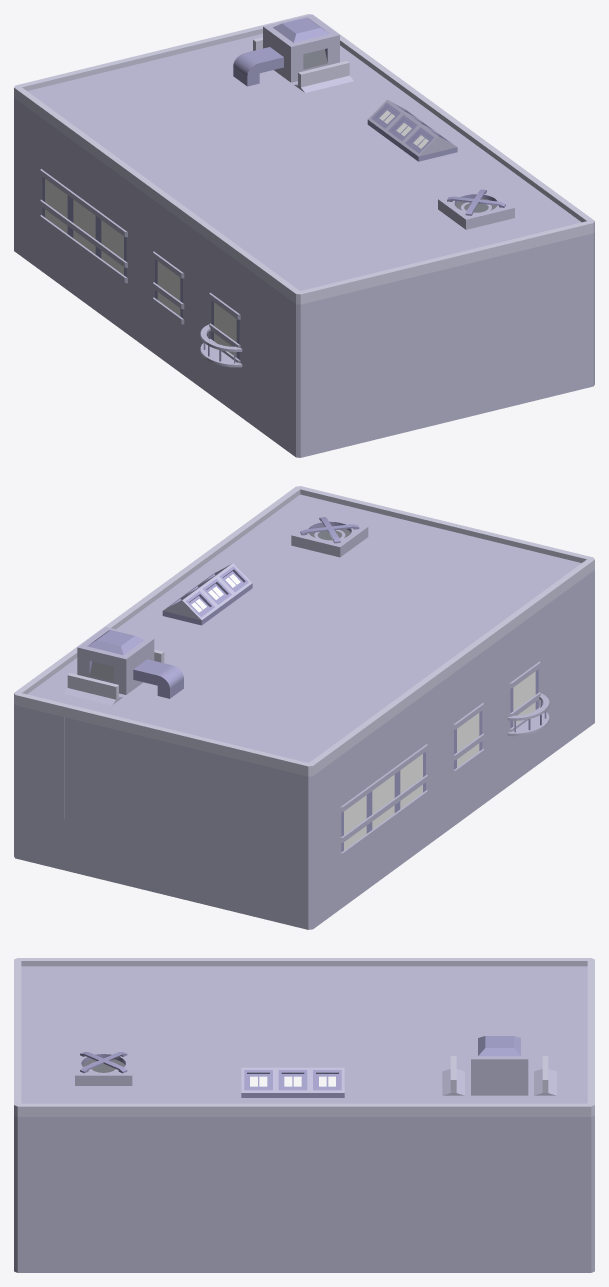
Rendered from RoofsVar2.fbx.
3 renders of one model, top to bottom at view 1: azimuth 30°, elevation 25°; view 2: azimuth 150°, elevation 25°; view 3: azimuth 270°, elevation 25°, orthographic.
Visible parts, largest first — view 1: Roofs2; view 2: Roofs2; view 3: Roofs2.
Part boxes in pixels (left/top/right/bottom): Roofs2: left=14, top=14, right=594, bottom=457; Roofs2: left=14, top=486, right=594, bottom=929; Roofs2: left=14, top=958, right=594, bottom=1272.
Bounding box in the file's own units: 653 × 390 × 1013.
